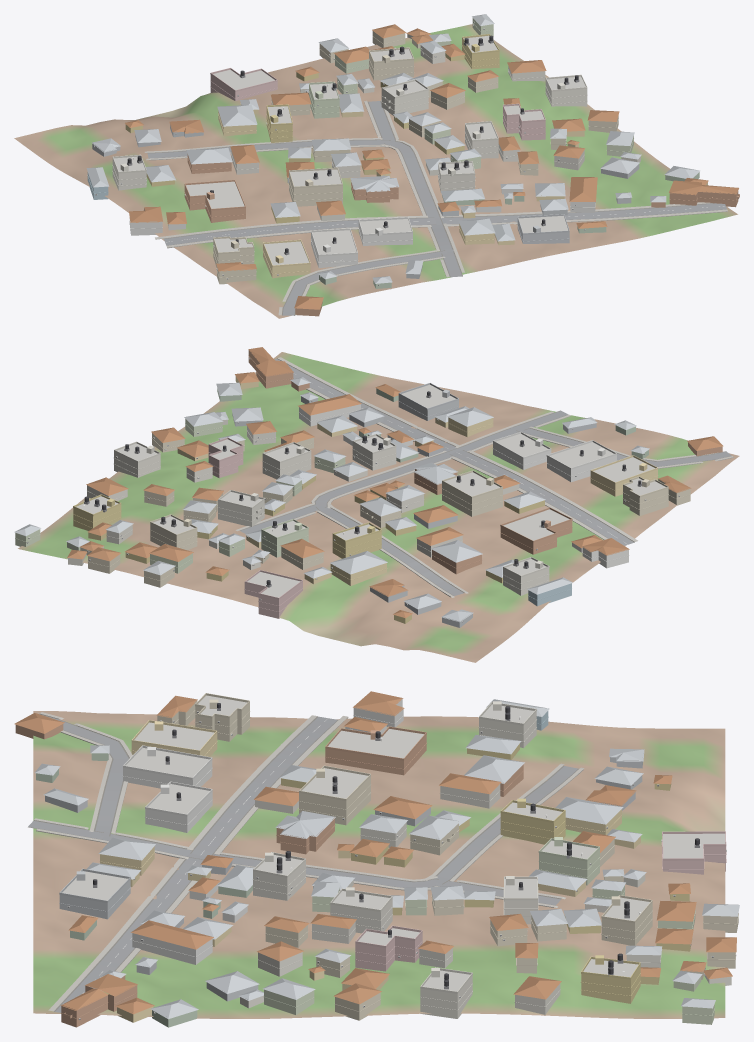
3 renders of one model, top to bottom at view 1: azimuth 30°, elevation 25°; view 2: azimuth 150°, elevation 25°; view 3: azimuth 270°, elevation 25°, orthographic. The views are drawn at different scales.
Visible parts, largest first — view 1: Buildings-col, Terrain-col, Details, Roads-col, Sidewalks-col; view 2: Buildings-col, Terrain-col, Details, Roads-col, Sidewalks-col; view 3: Buildings-col, Terrain-col, Details, Roads-col, Sidewalks-col.
Part boxes in pixels (x1,y1,x2,y2): Buildings-col: [86, 14, 738, 316]; Terrain-col: [14, 24, 737, 318]; Details: [87, 22, 739, 285]; Roads-col: [147, 101, 726, 315]; Sidewalks-col: [144, 99, 727, 315]; Buildings-col: [14, 347, 723, 627]; Terrain-col: [18, 352, 739, 662]; Details: [15, 355, 690, 622]; Roads-col: [240, 358, 731, 595]; Sidewalks-col: [235, 357, 733, 597]; Buildings-col: [14, 691, 739, 1027]; Terrain-col: [33, 711, 725, 1018]; Details: [59, 693, 738, 1020]; Roads-col: [28, 714, 578, 1012]; Sidewalks-col: [34, 712, 584, 1011].
Size of the model in its own units: 276 by 25.98 by 269.
